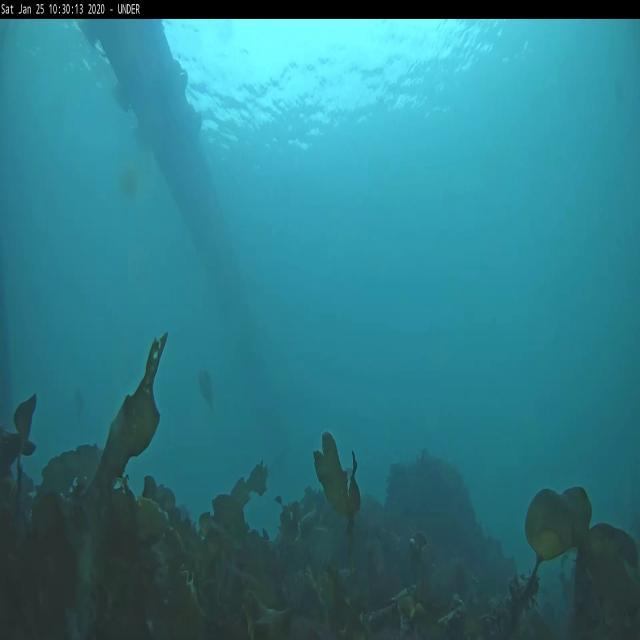fish: (196, 364, 215, 409), (268, 442, 292, 474)
